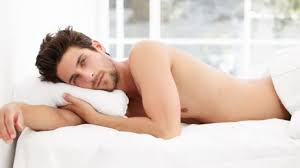sleeping: (2, 25, 300, 144)
